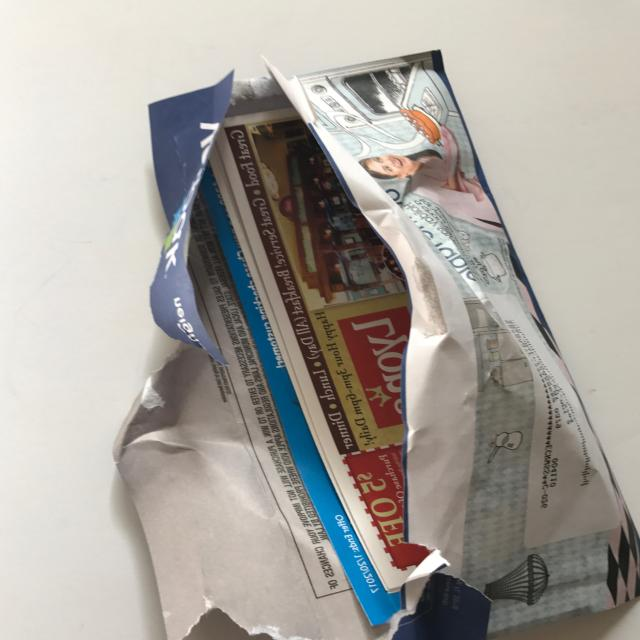paper: (83, 34, 640, 640)
